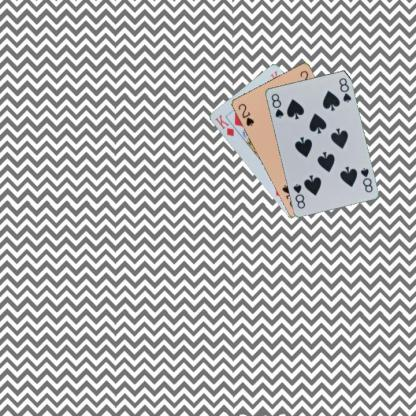2s: (235, 101, 256, 127)
8s: (358, 165, 374, 194), (269, 91, 284, 119)
Kd: (212, 112, 235, 138)
